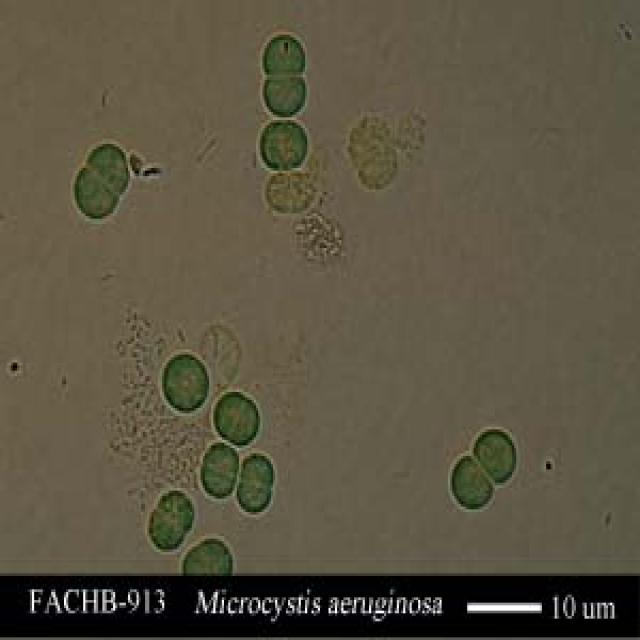Blue Green Algae: (160, 349, 209, 416), (446, 445, 493, 512), (68, 165, 120, 224), (258, 120, 309, 173), (474, 424, 518, 485), (86, 141, 132, 195), (260, 32, 305, 77), (260, 75, 307, 117), (158, 488, 196, 536), (145, 504, 181, 549), (198, 461, 235, 504), (235, 480, 275, 517), (211, 389, 243, 435), (202, 437, 236, 480), (239, 450, 277, 482), (233, 400, 260, 445)
